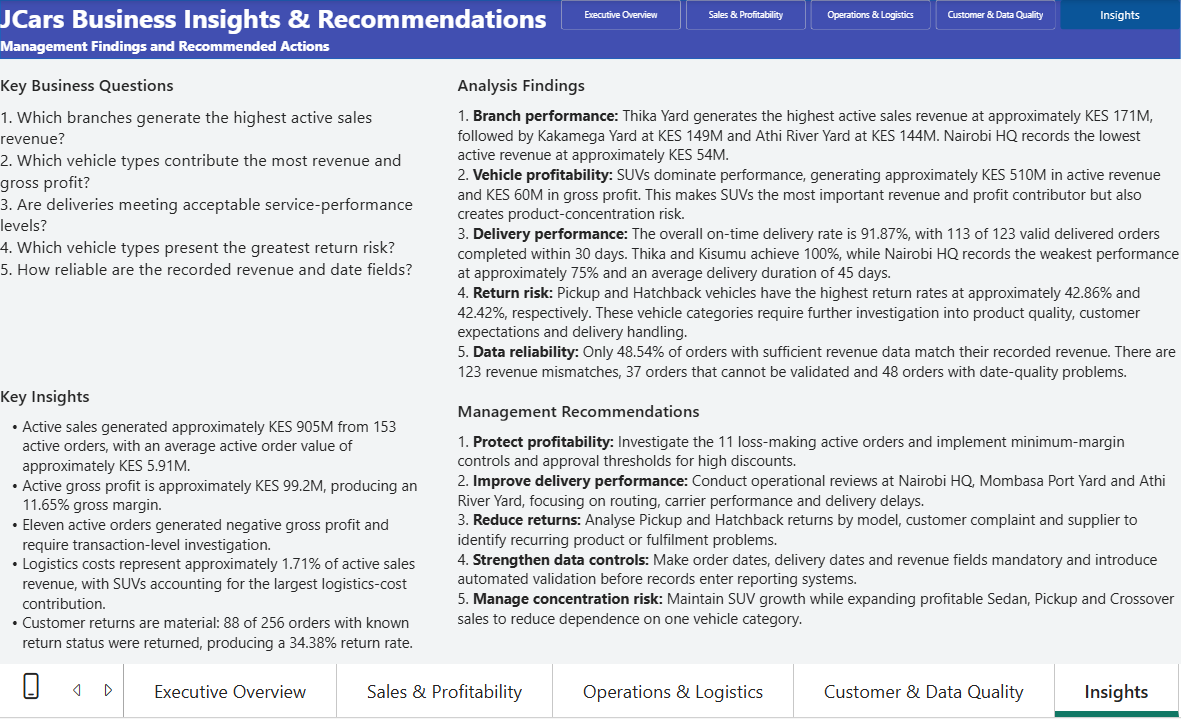

The page's visual inventory and layout, read from the dashboard file:
{"tool":"powerbi","page":{"name":"Insights","canvas":[1920,1080],"ordinal":4},"visuals":[{"type":"shape","box":[0,-0.4,1920,96],"z":0},{"type":"textbox","title":"JCars Business Insights & Recommendations","box":[0,0,1920,96],"z":1},{"type":"pageNavigator","box":[912,0,1008,48],"z":2},{"type":"textbox","title":"Key Business Questions","box":[0,120,672,408],"z":3},{"type":"textbox","title":"Analysis Findings","box":[744,120,1176,504],"z":4},{"type":"textbox","title":"Key Insights","box":[0,624,696,456],"z":5},{"type":"textbox","title":"Management Recommendations","box":[744,648,1176,408],"z":6}]}

Visuals, with their boxes on the page's 1920x1080 design canvas (x1, y1, x2, y2). These are canvas units, not pixel positions in the 1181x719 screenshot, which may show the page scaled, cropped or inside an application window:
shape: left=0, top=0, right=1920, bottom=96
"JCars Business Insights & Recommendations" textbox: left=0, top=0, right=1920, bottom=96
pageNavigator: left=912, top=0, right=1920, bottom=48
"Key Business Questions" textbox: left=0, top=120, right=672, bottom=528
"Analysis Findings" textbox: left=744, top=120, right=1920, bottom=624
"Key Insights" textbox: left=0, top=624, right=696, bottom=1080
"Management Recommendations" textbox: left=744, top=648, right=1920, bottom=1056
